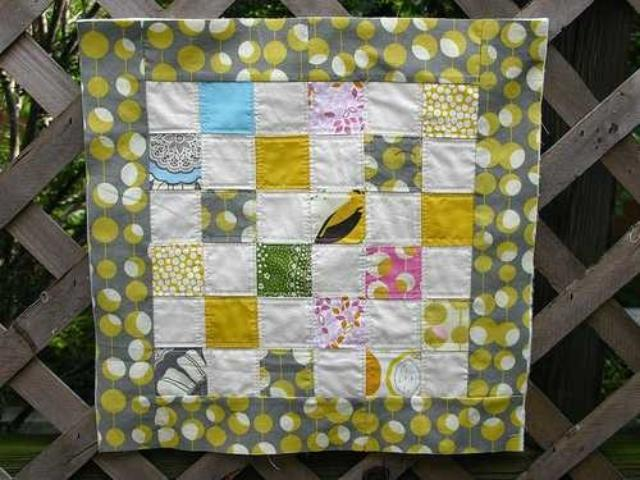pillow: (78, 15, 546, 456)
